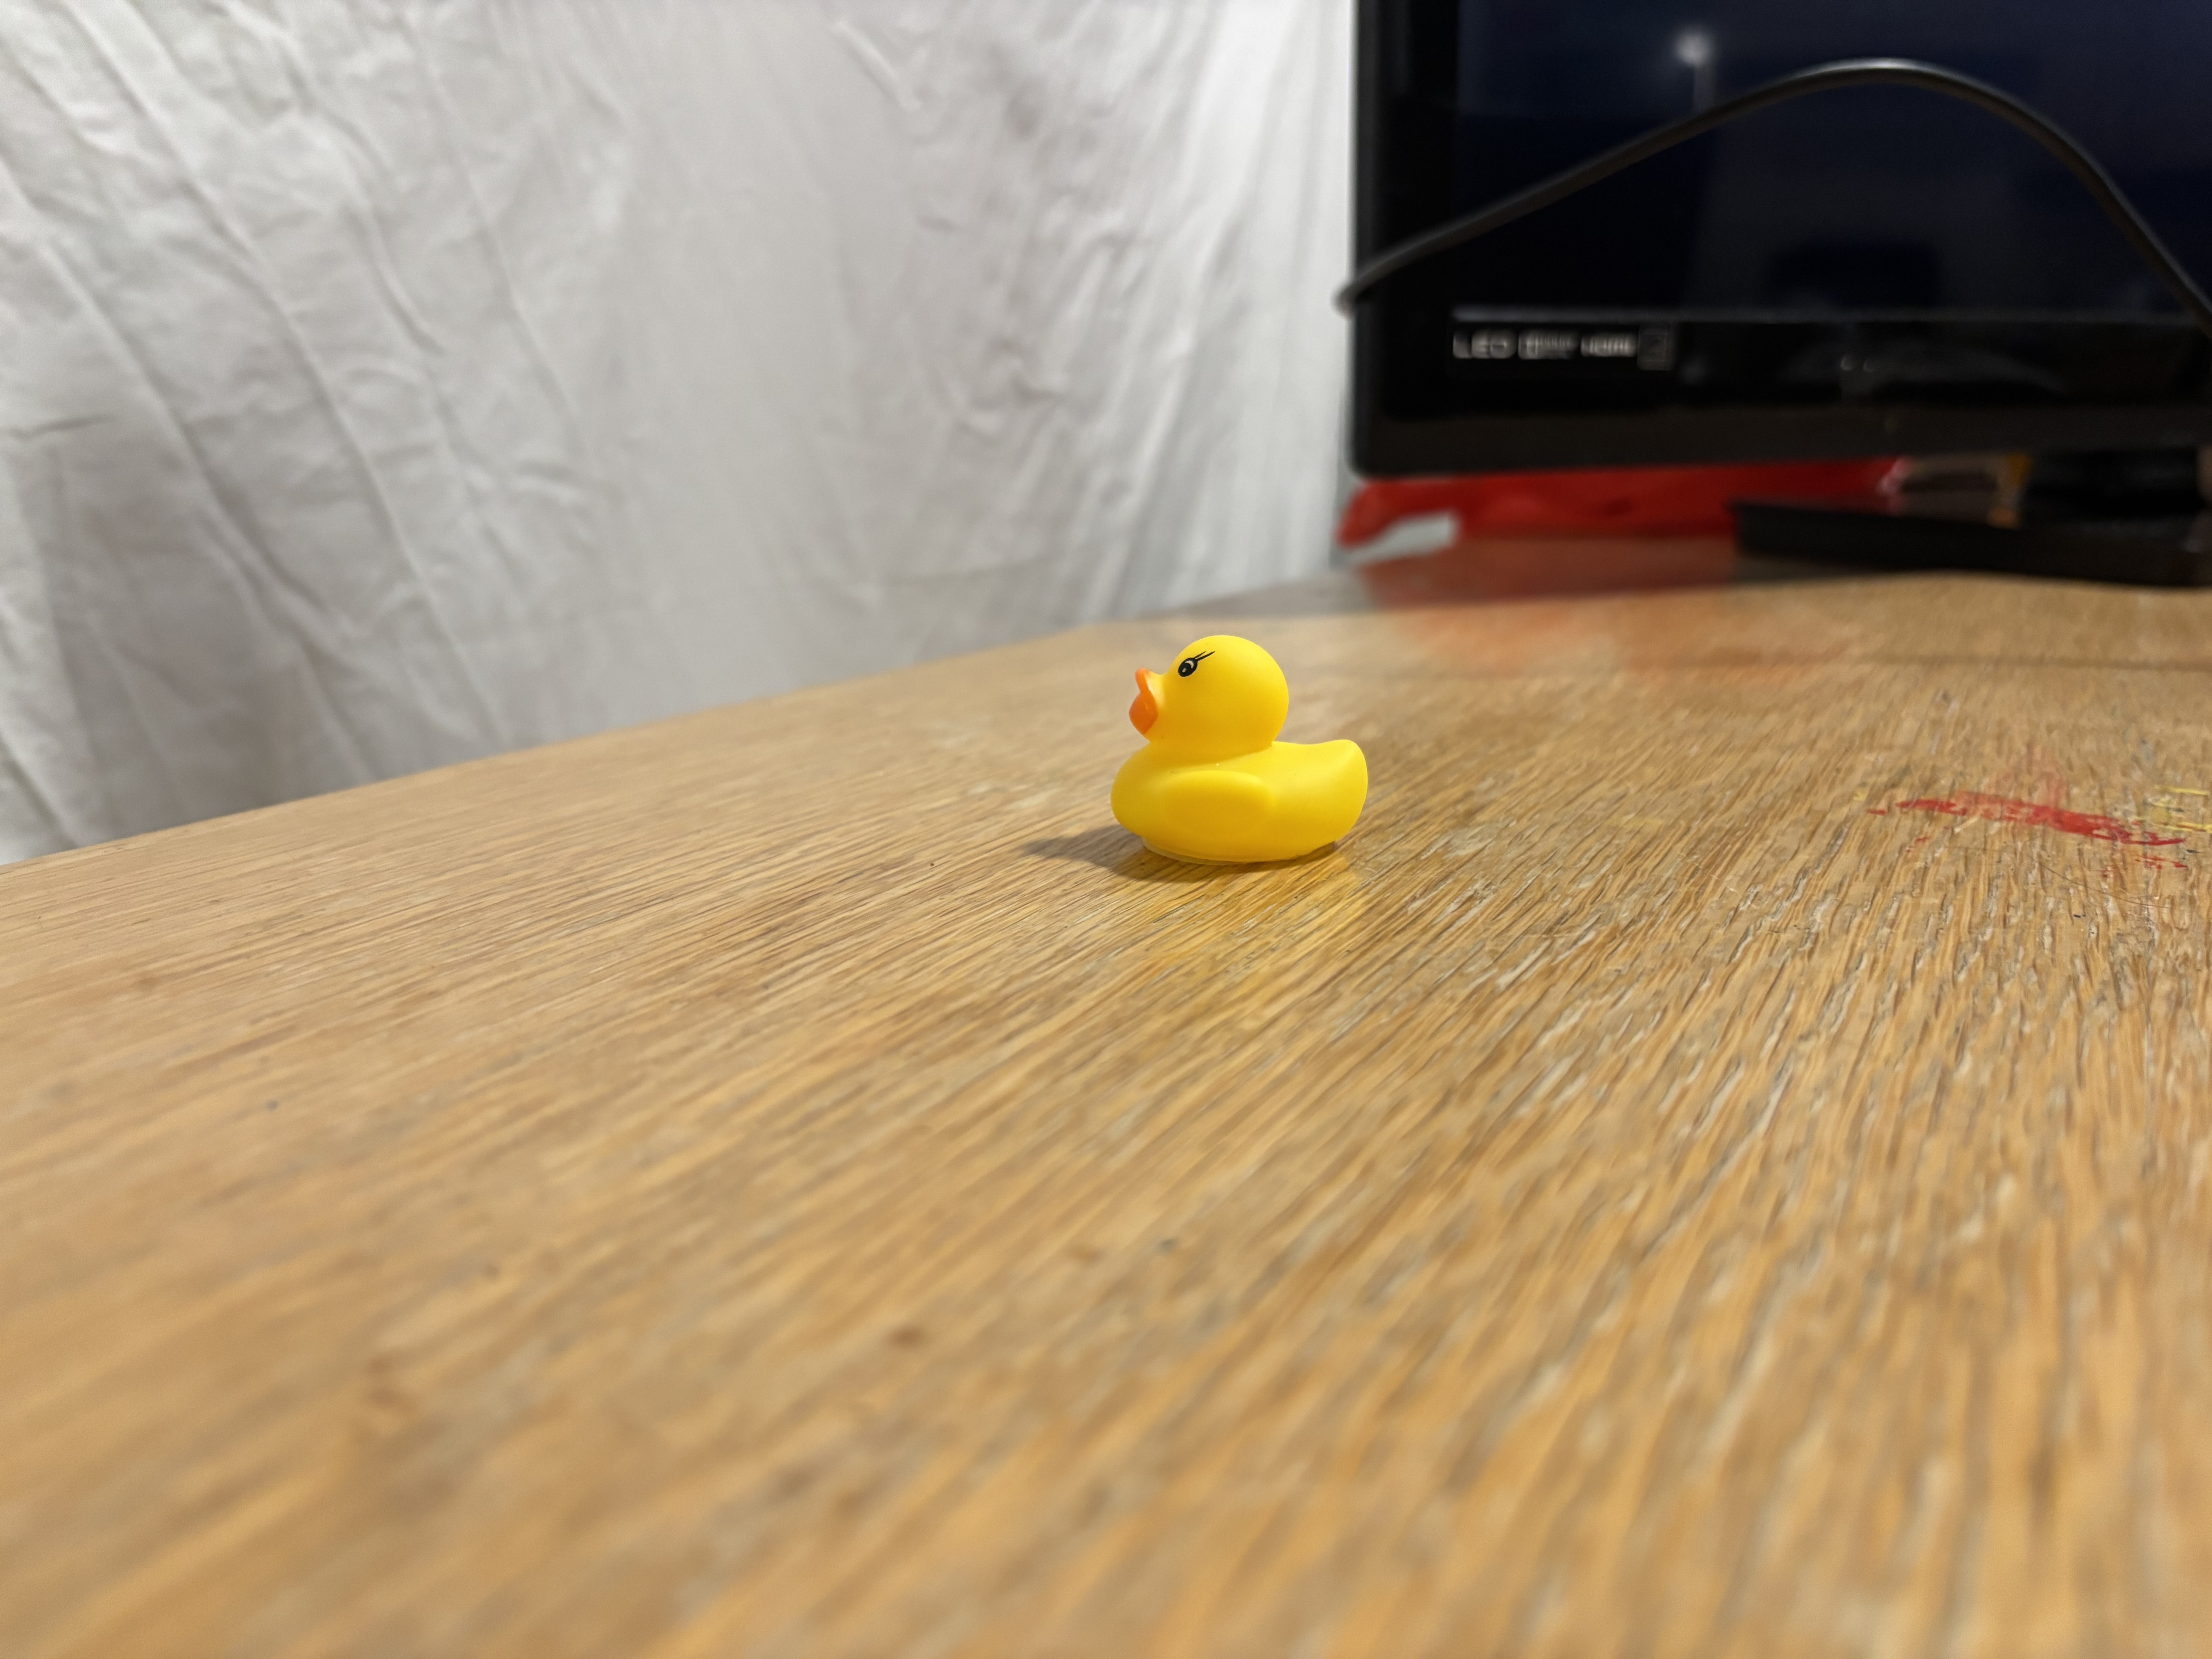duck_regular: (1092, 638, 1379, 871)
